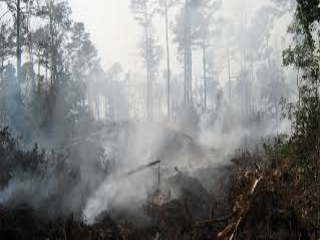smoke: (73, 162, 140, 223), (192, 99, 238, 162)
